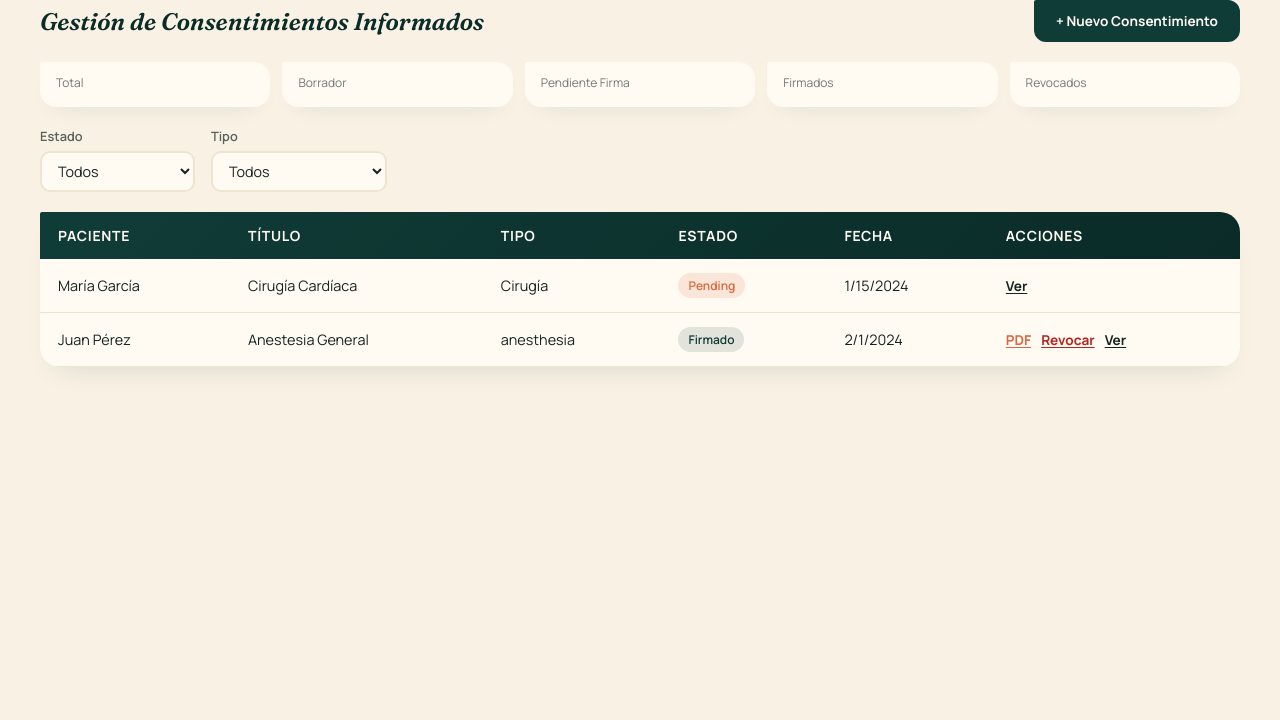
Test case: ConsentManagement › Consent list actions › opens detail modal when Ver clicked
Expected: the text "Cirugía Cardíaca" is shown, [230,259,483,312]
Click the button "Ver" in the row of "María García".
click(1017, 286)  # box [1006,276,1027,294]
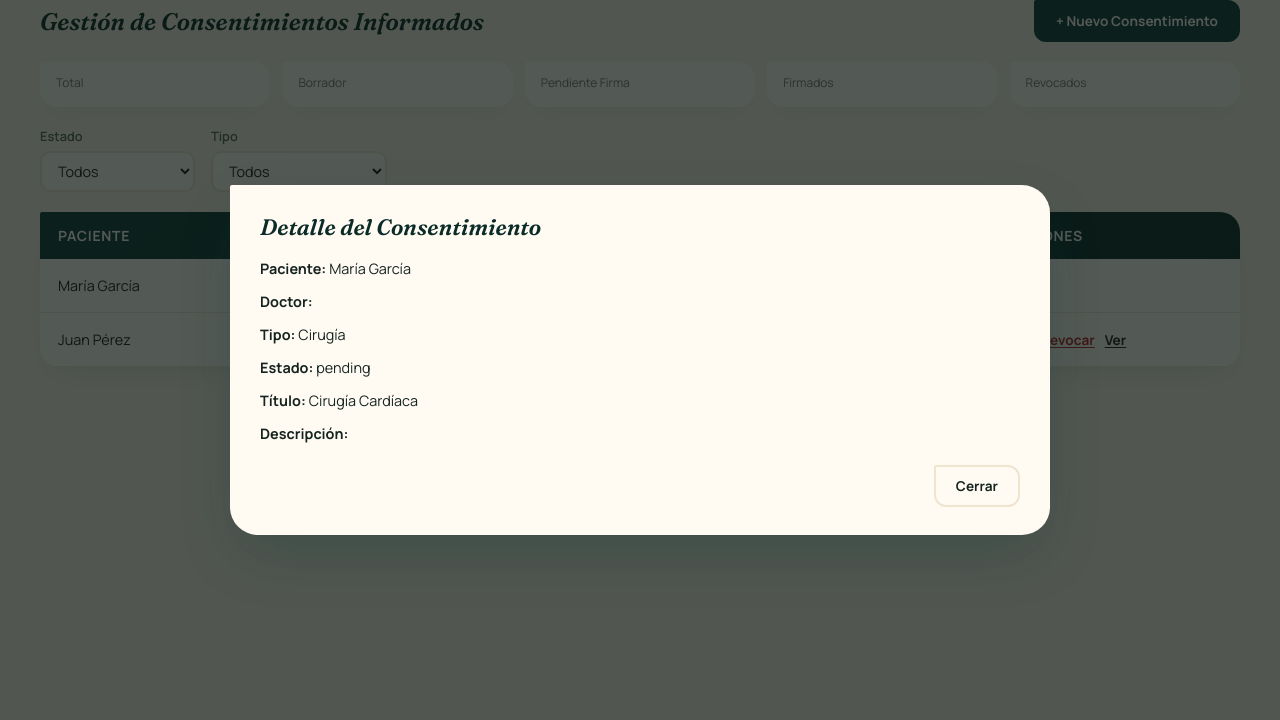
Expected: the heading "Detalle del Consentimiento" is shown, [260,213,541,241]
